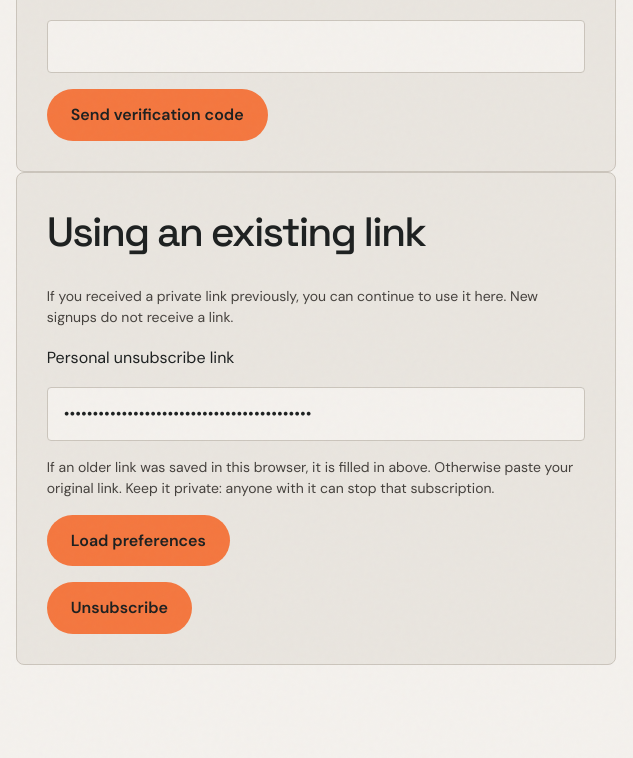
Test case: preserves an arbitrary legacy referral response when other preferences are edited
The image size is (633, 758).
Later steps or results of the test are not shown.
(page scrolled)
Click the button "Load preferences": (138, 540) [47, 515, 230, 566]
(page scrolled)
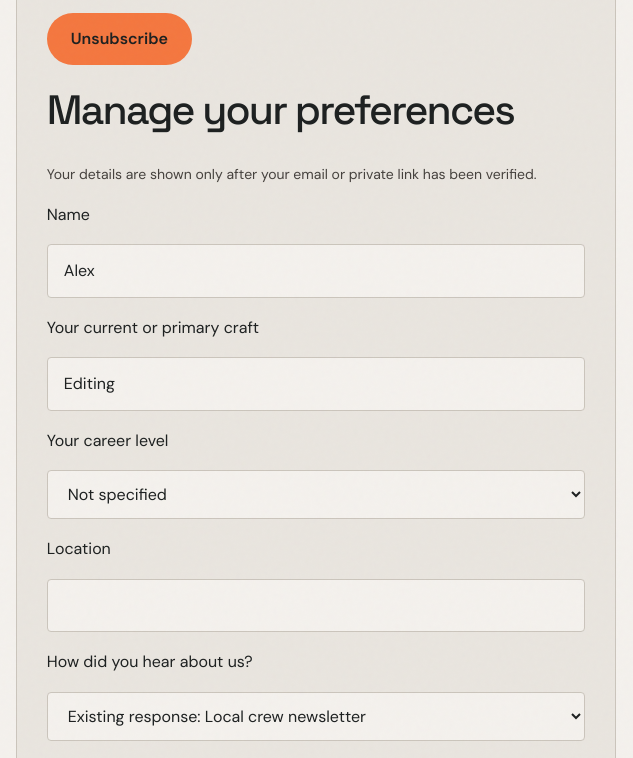
Check: the dropdown labelled "How did you hear about us?" shows "Existing response: Local crew newsletter", box [47, 692, 585, 741]
